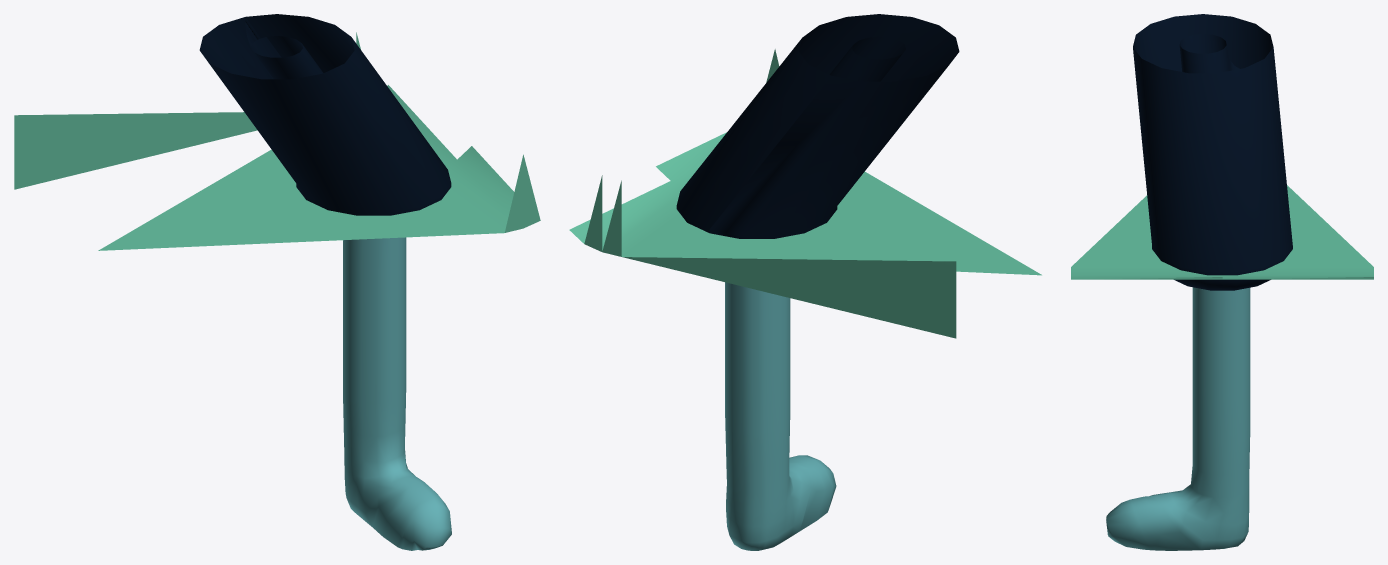
Rendered from bmopatader.obj.
3 renders of one model, left to right at view 1: azimuth 30°, elevation 25°; view 2: azimuth 150°, elevation 25°; view 3: azimuth 270°, elevation 25°, orthographic. The views are drawn at different scales.
Visible parts, largest first — view 1: BmoPataDer; view 2: BmoPataDer; view 3: BmoPataDer.
Boxes of the visible parts, bbox=[...] form: BmoPataDer: bbox=[14, 14, 540, 550]; BmoPataDer: bbox=[569, 14, 1041, 550]; BmoPataDer: bbox=[1071, 14, 1373, 550].
Size of the model in its own units: 1.01 by 1.28 by 0.7788.
